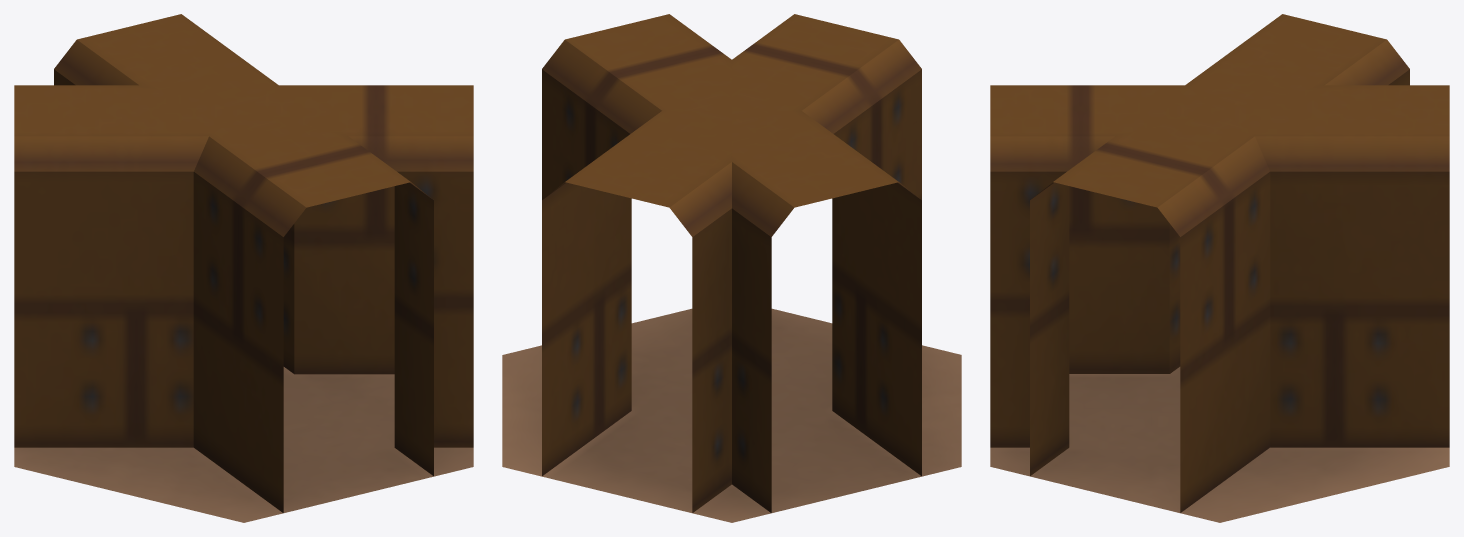
The model's file is Barriere_X1.FBX.
The picture shows the model from 3 angles, left to right: view 1: azimuth 30°, elevation 25°; view 2: azimuth 150°, elevation 25°; view 3: azimuth 270°, elevation 25°; orthographic projection.
Parts seen in each view (by area): view 1: Barriere_X1; view 2: Barriere_X1; view 3: Barriere_X1.
Boxes of the visible parts, <box> form: Barriere_X1: <box>14,14,473,522</box>; Barriere_X1: <box>502,14,961,522</box>; Barriere_X1: <box>990,14,1449,522</box>.
Size of the model in its own units: 1 by 0.6247 by 0.8663.
